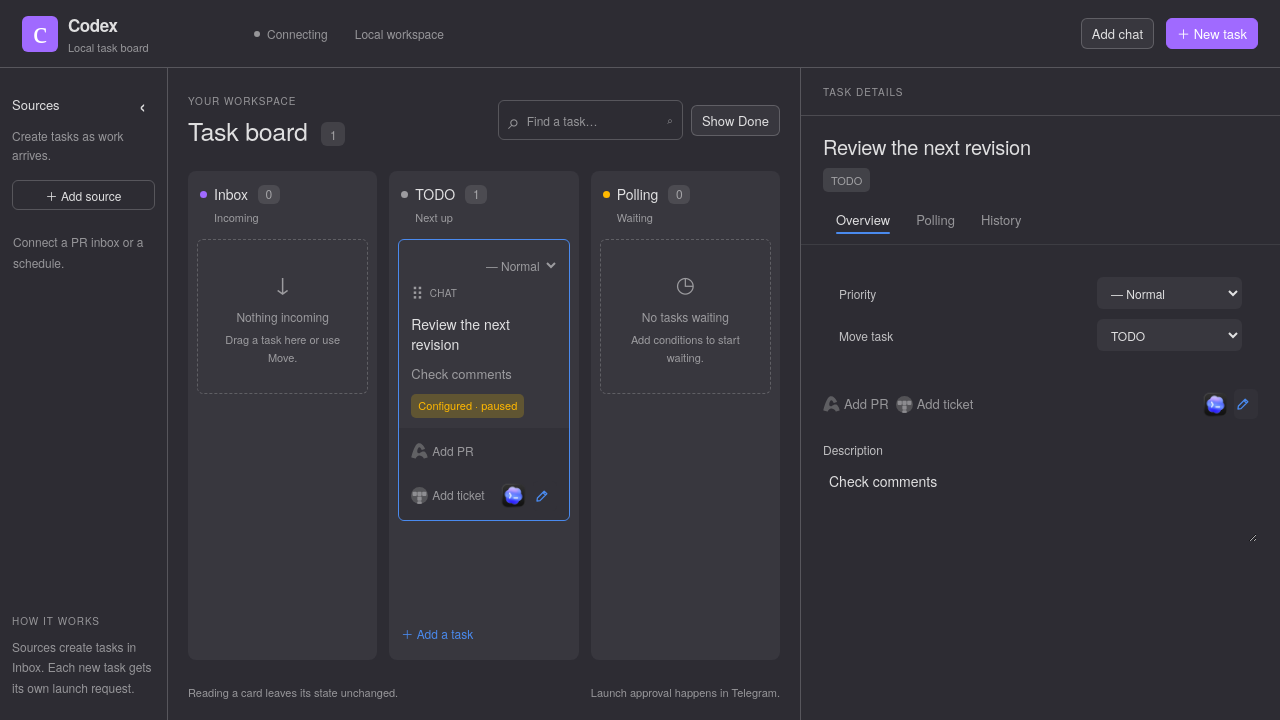
Test case: retains unsaved Polling settings and its tab when reopening the dismissed card
This screenshot has width=1280, height=720.
Expected: the text box named "Title" is shown, [823,132,1258,161]
Click the tab "Polling" at (936, 219), box [903,204,968,234]
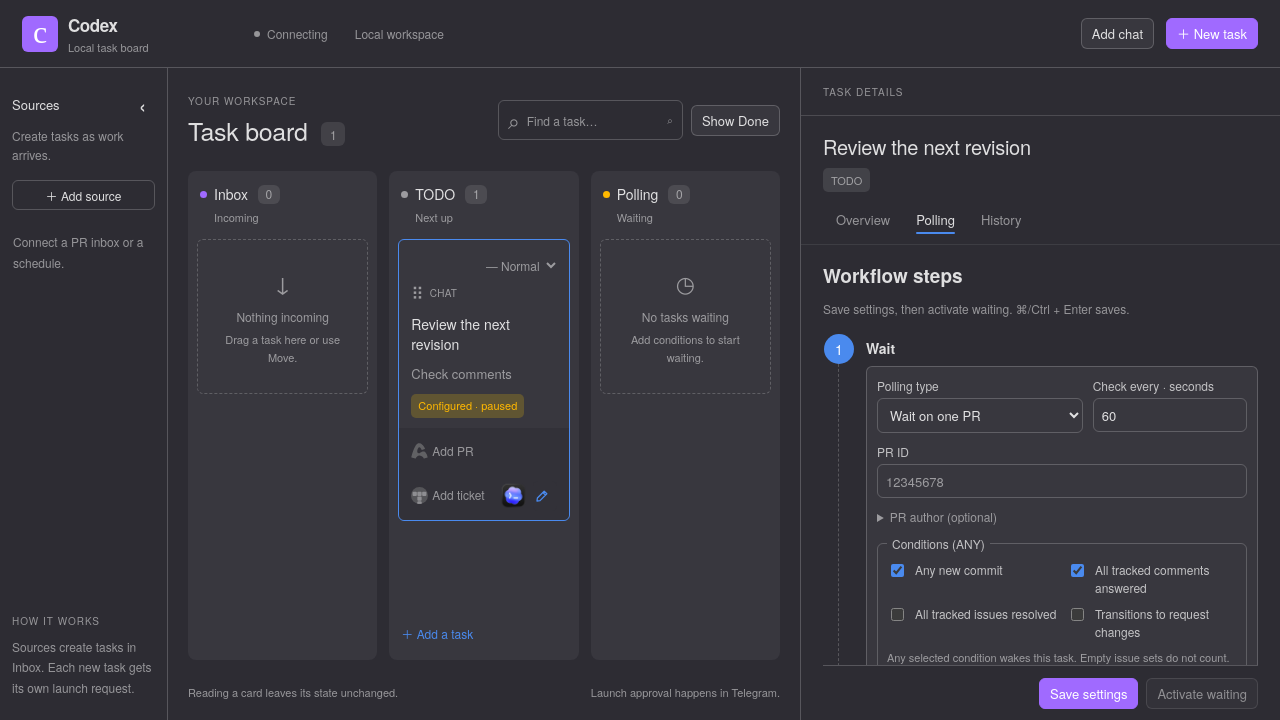
Type "456" into the field labelled "PR ID" at (1062, 481), box [877,464,1247,498]
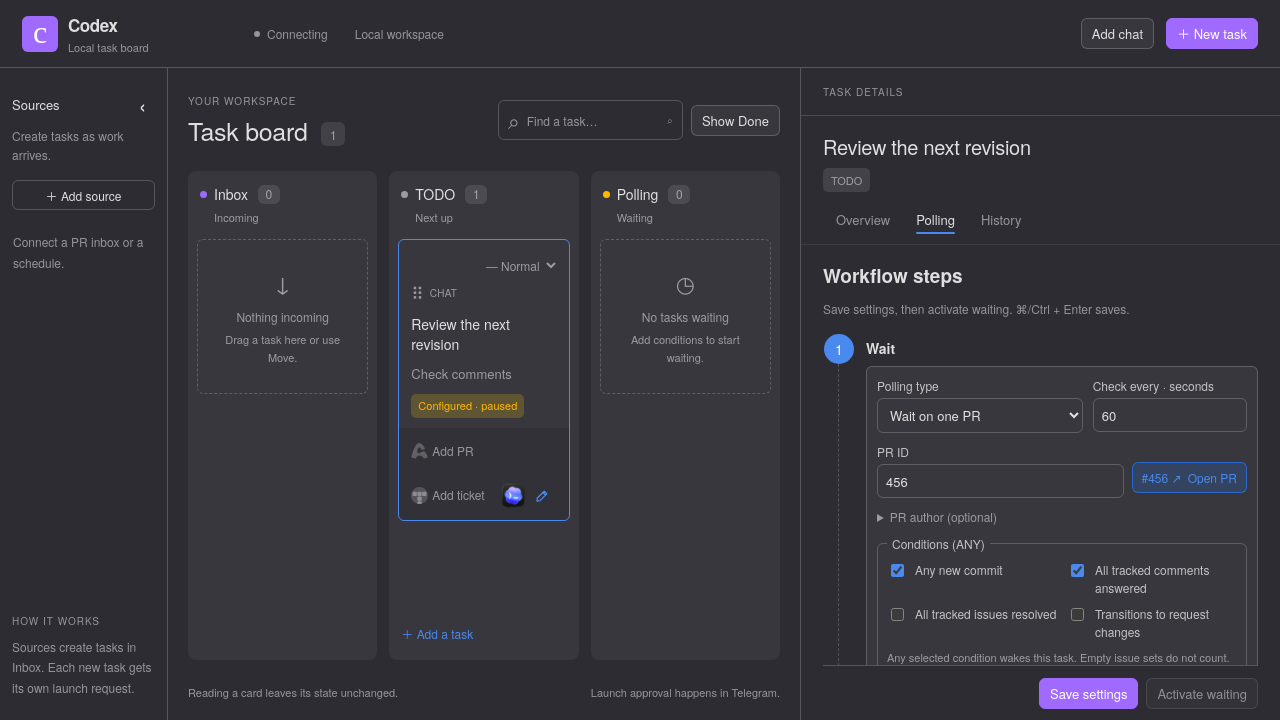
Press Escape in the field labelled "PR ID", box [877,464,1124,498]
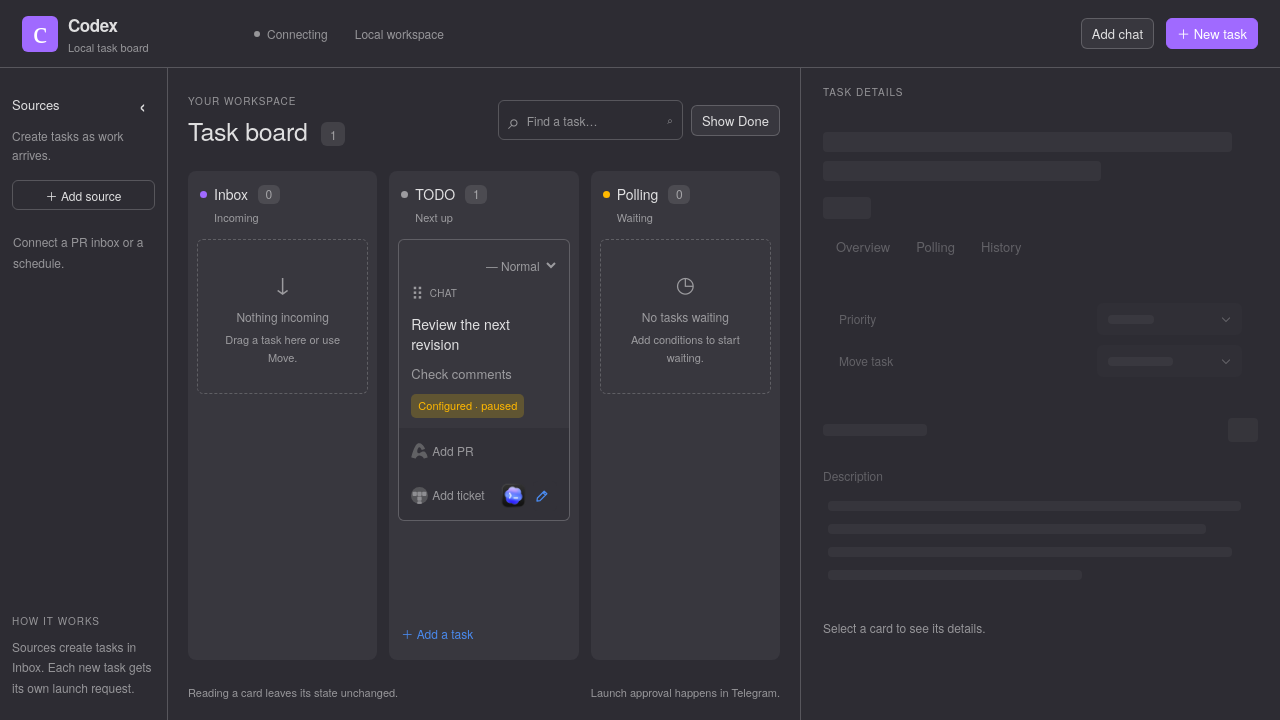
Expected: the text "Select a card to see its details." is shown, [823,619,986,636]
Click the button "CHAT Review the next revision" at (484, 334), box [399,240,569,428]
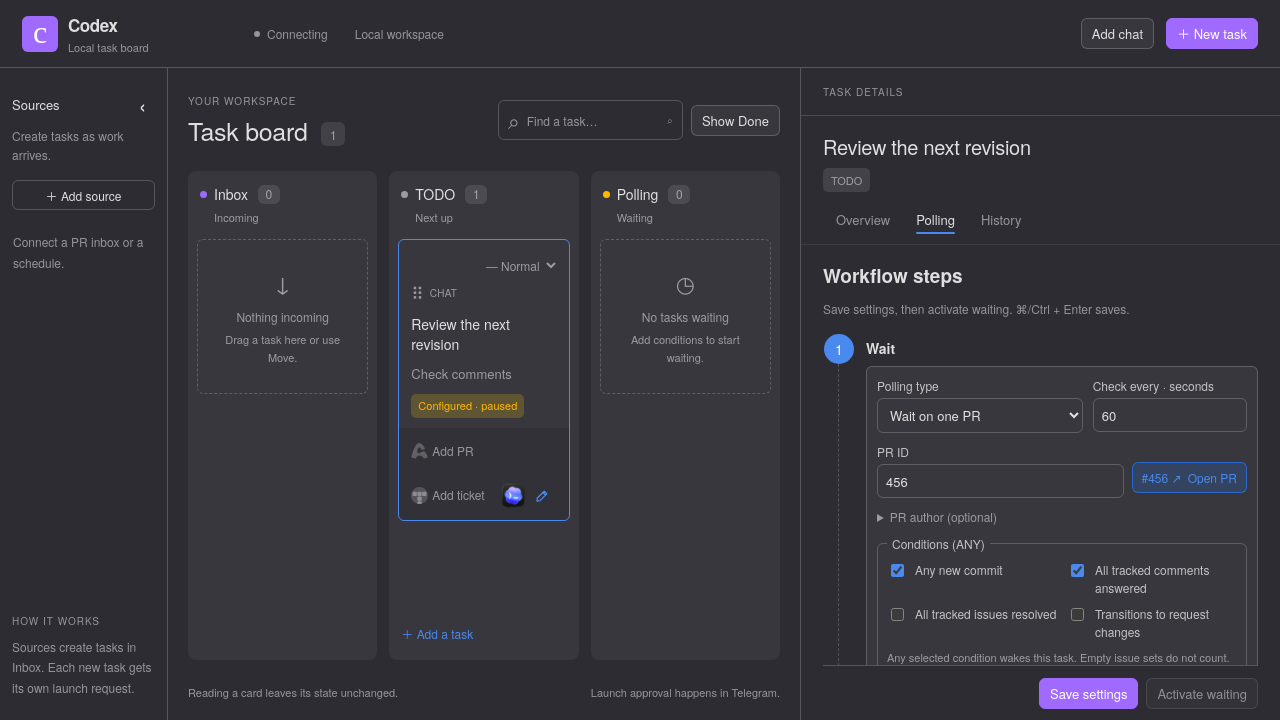
Expected: the tab "Polling" is shown, [903,204,968,234]
